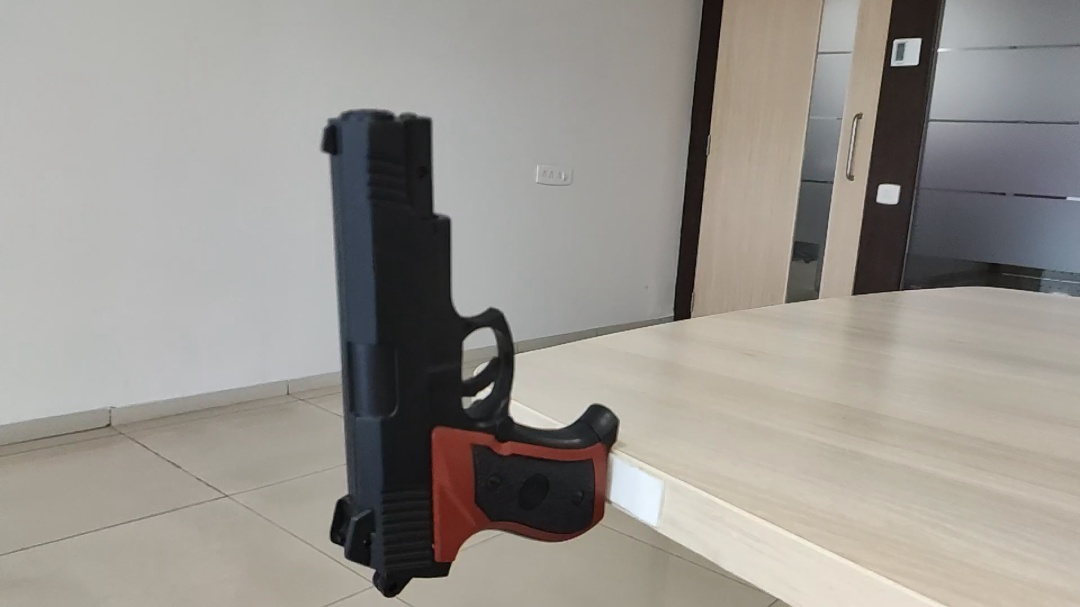gun: (396, 165, 754, 375)
